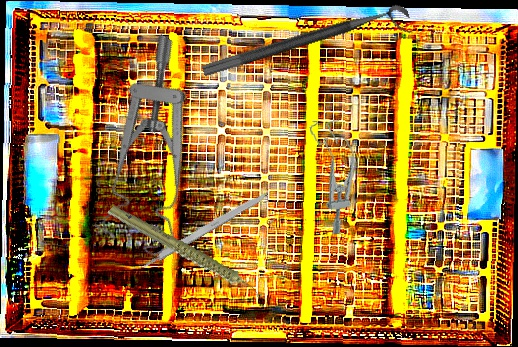Fixation Ring: (200, 1, 415, 95)
Handpiece: (105, 177, 263, 329)
Scalpel Handle: (140, 188, 270, 270)
Speculum: (54, 32, 264, 267), (308, 116, 365, 236)
